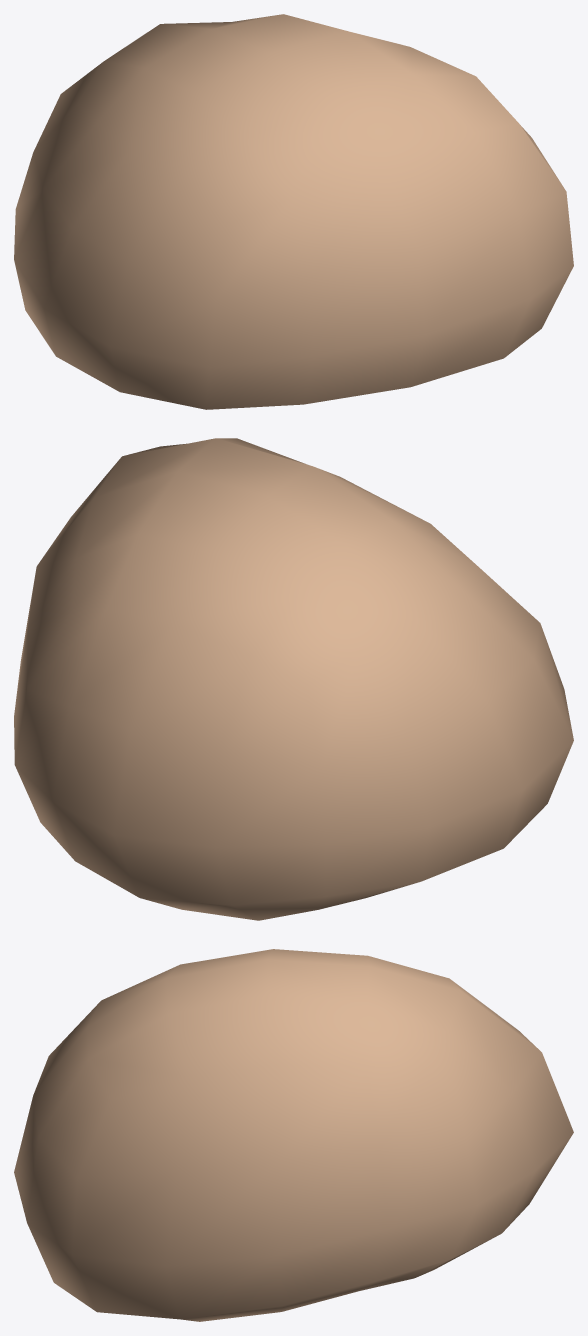
The model's file is Pebble_3c.gltf.
The picture shows the model from 3 angles, top to bottom: view 1: azimuth 30°, elevation 25°; view 2: azimuth 150°, elevation 25°; view 3: azimuth 270°, elevation 25°; orthographic projection. The views are drawn at different scales.
Visible parts, largest first — view 1: Pebble_3c; view 2: Pebble_3c; view 3: Pebble_3c.
Boxes of the visible parts, x1,y1,x2,y2 form: Pebble_3c: (14,14,573,409); Pebble_3c: (14,438,573,920); Pebble_3c: (14,949,573,1321).
Bounding box in the file's own units: 31.55 × 20.3 × 33.35.
1 material, 1 textured.
